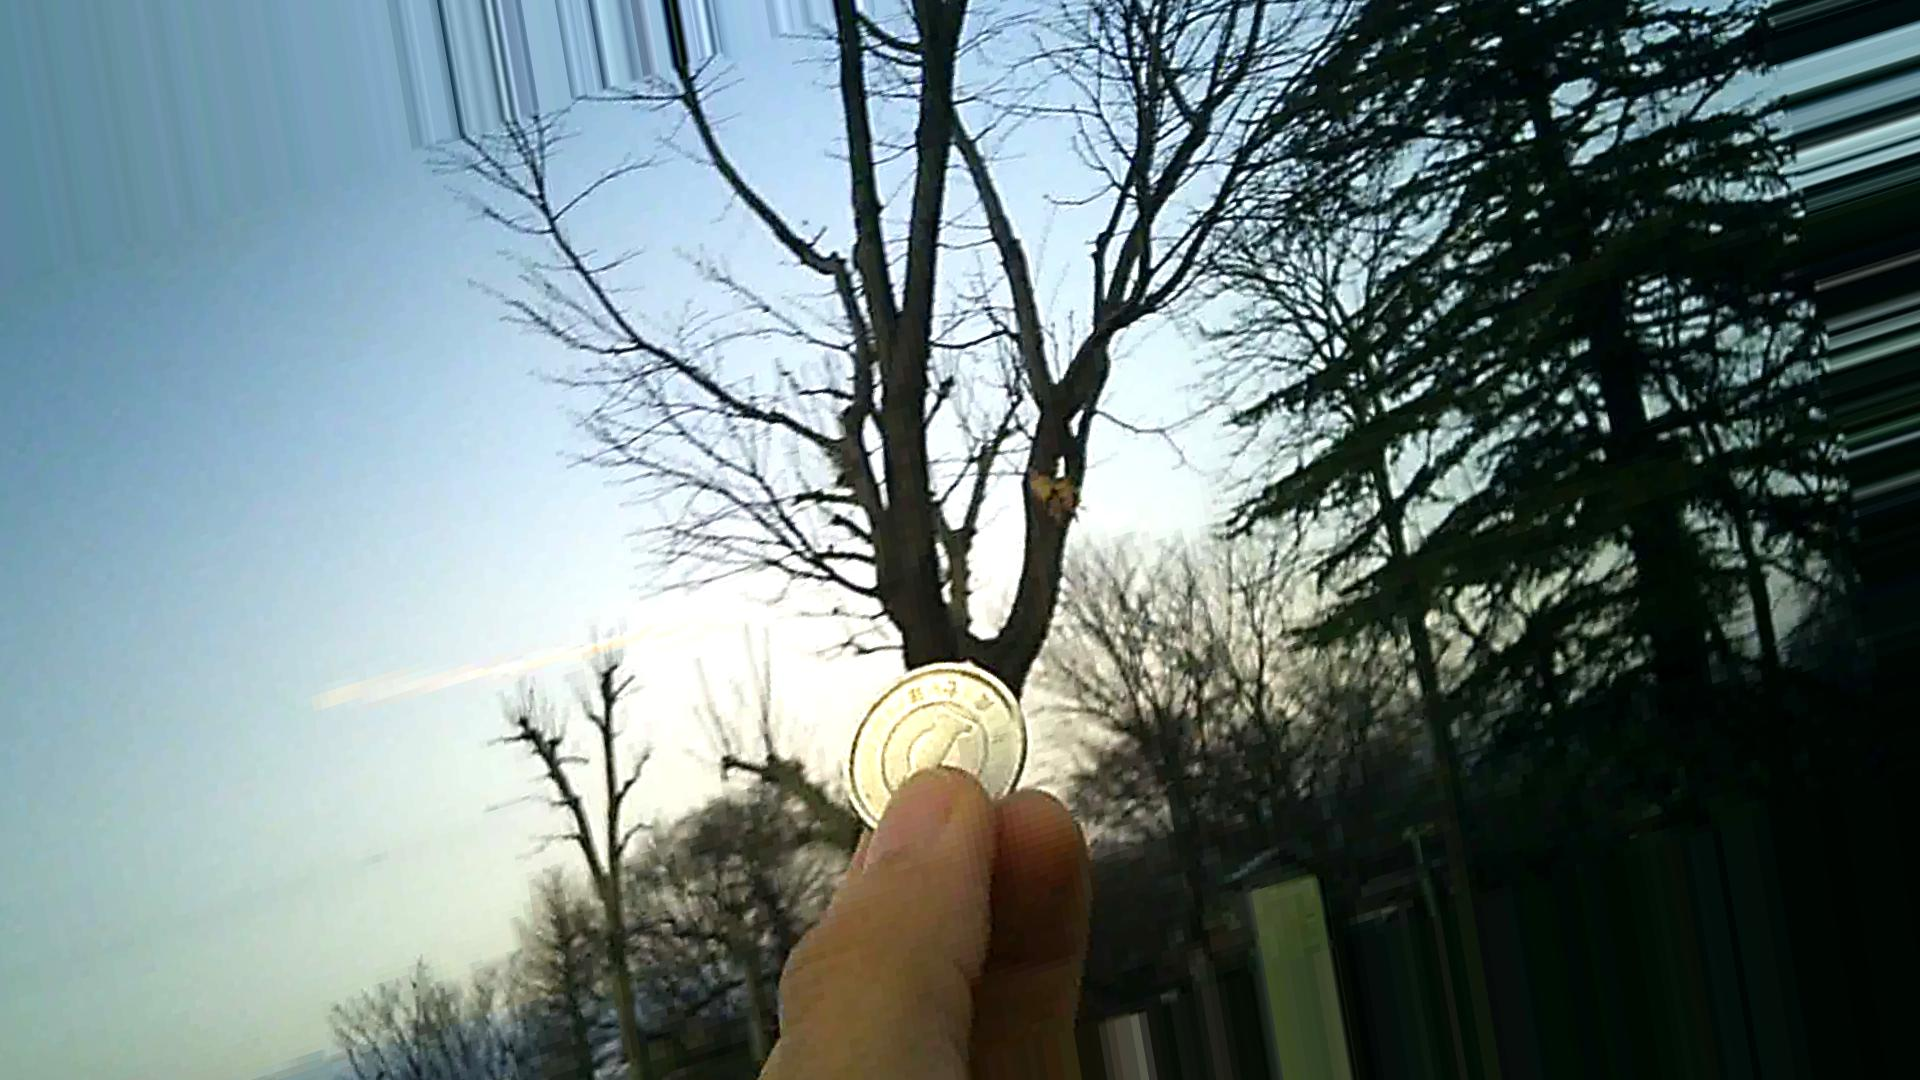1 Yen: (833, 651, 1038, 835)
